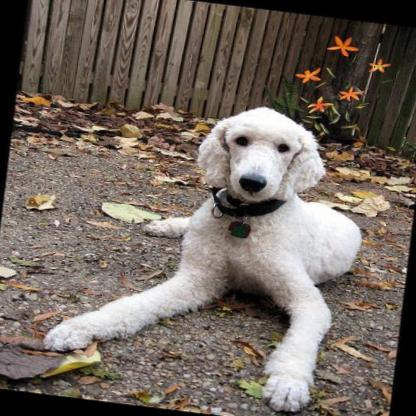standard_poodle: (35, 79, 377, 416)
